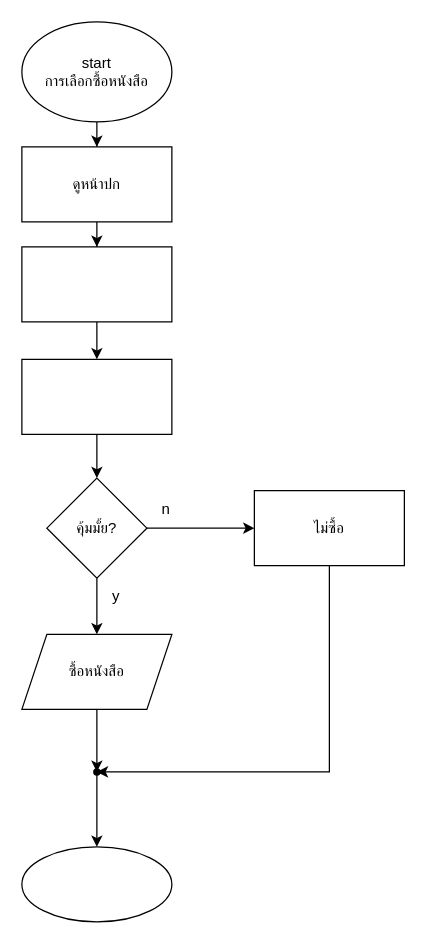
Some shapes in this 426 by 944 pixel diagram are drawn without their labels. Each missing label, with the centre of its shape:
"end" goes at (96,884).
"ดูความหน้าสนใจของเนื้อหา" goes at (96,284).
"ประเมินว่าคุ้มค่ากับราคามั้ย" goes at (96,396).
